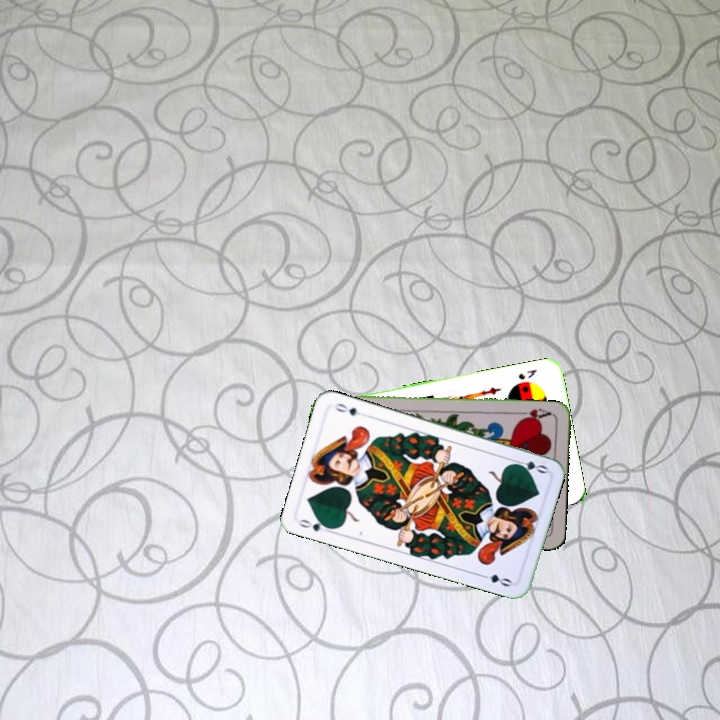GO: (509, 456, 550, 476), (294, 515, 335, 534)
HA: (514, 404, 553, 423)
SK: (514, 365, 539, 382)
